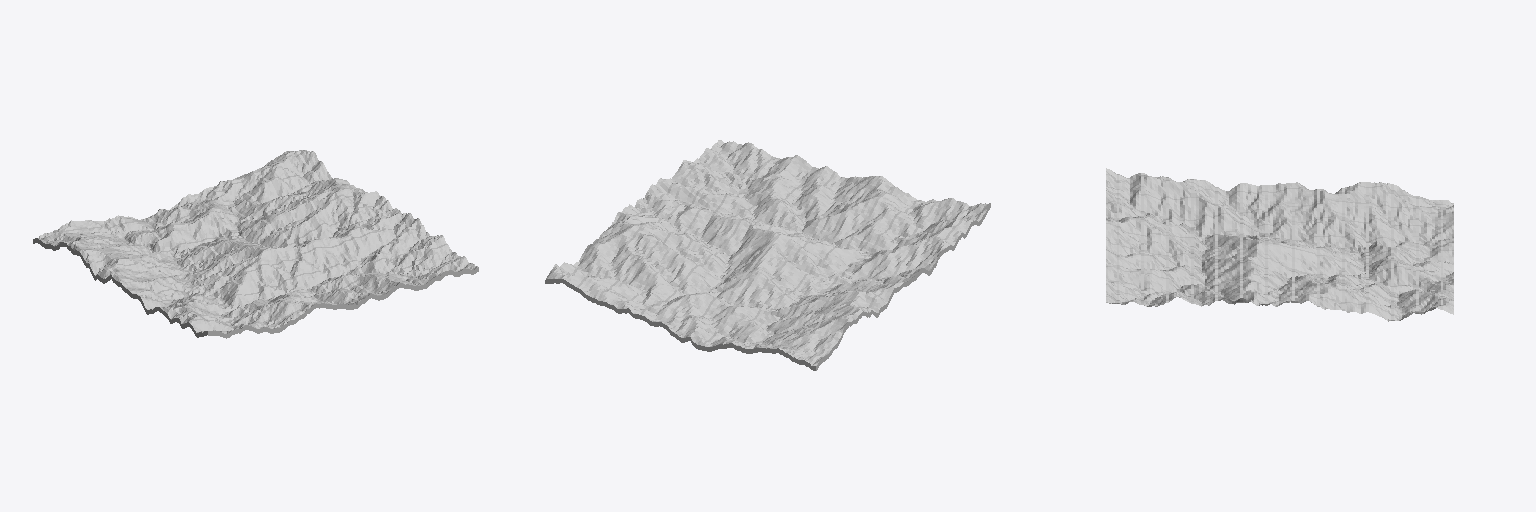
The model's file is 3D_MAP.obj.
The picture shows the model from 3 angles: view 1: azimuth 30°, elevation 25°; view 2: azimuth 150°, elevation 25°; view 3: azimuth 270°, elevation 25°; orthographic projection.
Parts seen in each view (by area): view 1: Terrain_DEM_tile; view 2: Terrain_DEM_tile; view 3: Terrain_DEM_tile.
Part boxes in pixels (x1,y1,x2,y2): Terrain_DEM_tile: (33, 150, 478, 338); Terrain_DEM_tile: (545, 140, 990, 370); Terrain_DEM_tile: (1106, 168, 1453, 321).
Size of the model in its own units: 0.8976 by 0.1616 by 1.